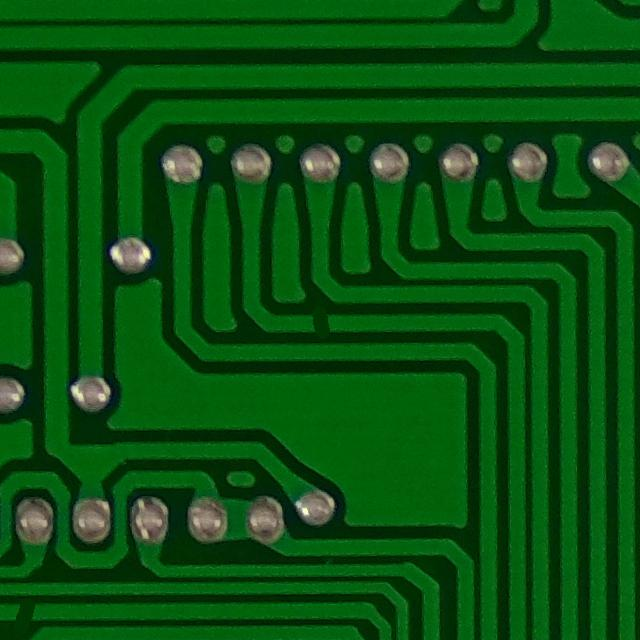open_circuit: (302, 300, 339, 341)
